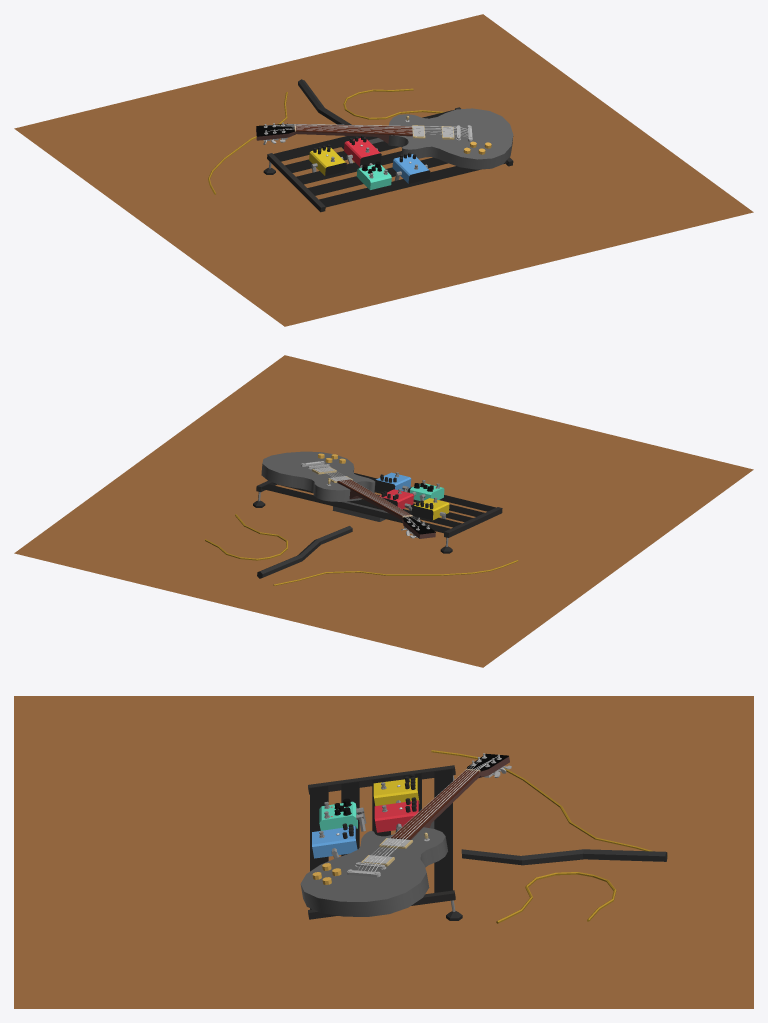
File: pedalboard.gltf
3 views of the same model, one above another, from view 1: azimuth 30°, elevation 25°; view 2: azimuth 150°, elevation 25°; view 3: azimuth 270°, elevation 25° (orthographic). The views are drawn at different scales.
Parts seen in each view (by area): view 1: Floor, Guitar, Cube, Pugilist Distortion, Delay, Fuzz, Blue Sky, Cable Bundle; view 2: Floor, Guitar, Cube, Cable Bundle, Pugilist Distortion, Delay, Cable Section 2; view 3: Floor, Guitar, Cube, Cable Bundle, Delay, Fuzz, Pugilist Distortion, Blue Sky, Cable Section 2, Cable Section.
Boxes of the visible parts, x1,y1,x2,y2 form: Floor: [14, 14, 753, 326]; Guitar: [256, 108, 513, 169]; Cube: [263, 107, 513, 212]; Pugilist Distortion: [309, 144, 346, 176]; Delay: [392, 152, 430, 183]; Fuzz: [344, 135, 381, 166]; Blue Sky: [356, 161, 391, 189]; Cable Bundle: [298, 79, 351, 124]; Floor: [14, 355, 753, 667]; Guitar: [261, 451, 435, 538]; Cube: [253, 473, 502, 553]; Cable Bundle: [257, 526, 352, 578]; Pugilist Distortion: [411, 497, 449, 520]; Delay: [374, 472, 411, 492]; Cable Section 2: [273, 560, 517, 585]; Floor: [14, 696, 753, 1008]; Guitar: [300, 753, 511, 916]; Cube: [308, 765, 462, 920]; Cable Bundle: [461, 849, 667, 865]; Delay: [312, 823, 357, 858]; Fuzz: [374, 797, 420, 832]; Pugilist Distortion: [373, 774, 419, 805]; Blue Sky: [319, 798, 357, 830]; Cable Section 2: [431, 750, 667, 856]; Cable Section: [496, 872, 616, 923].
Bounding box in the file's own units: 2 × 0.1532 × 2.
